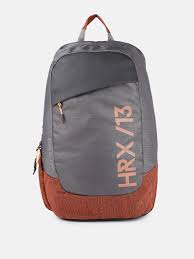backpack: (32, 13, 158, 221)
